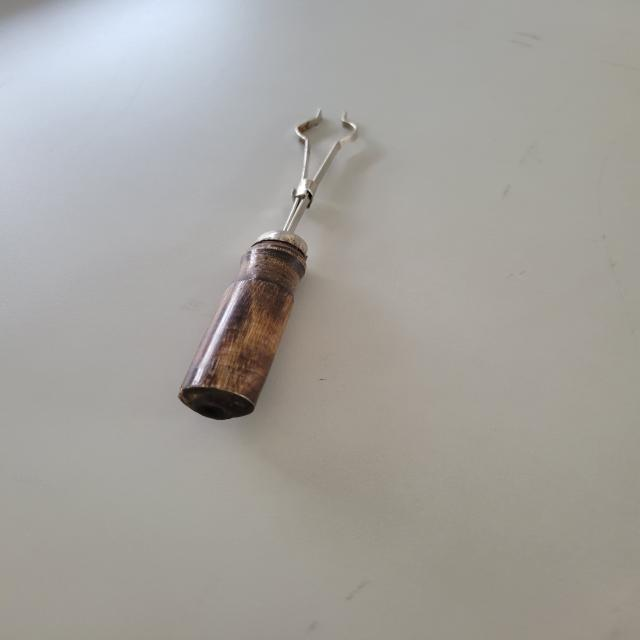TestTube_Holder: (144, 49, 423, 458)
